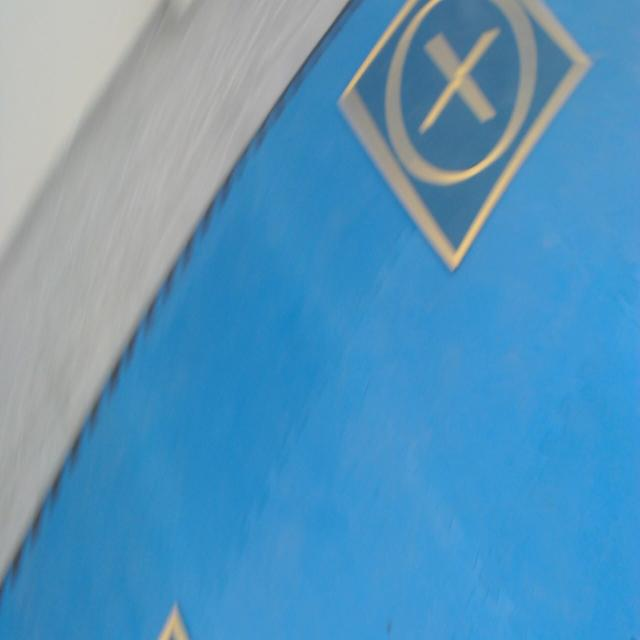base_pouso: (337, 0, 595, 276)
